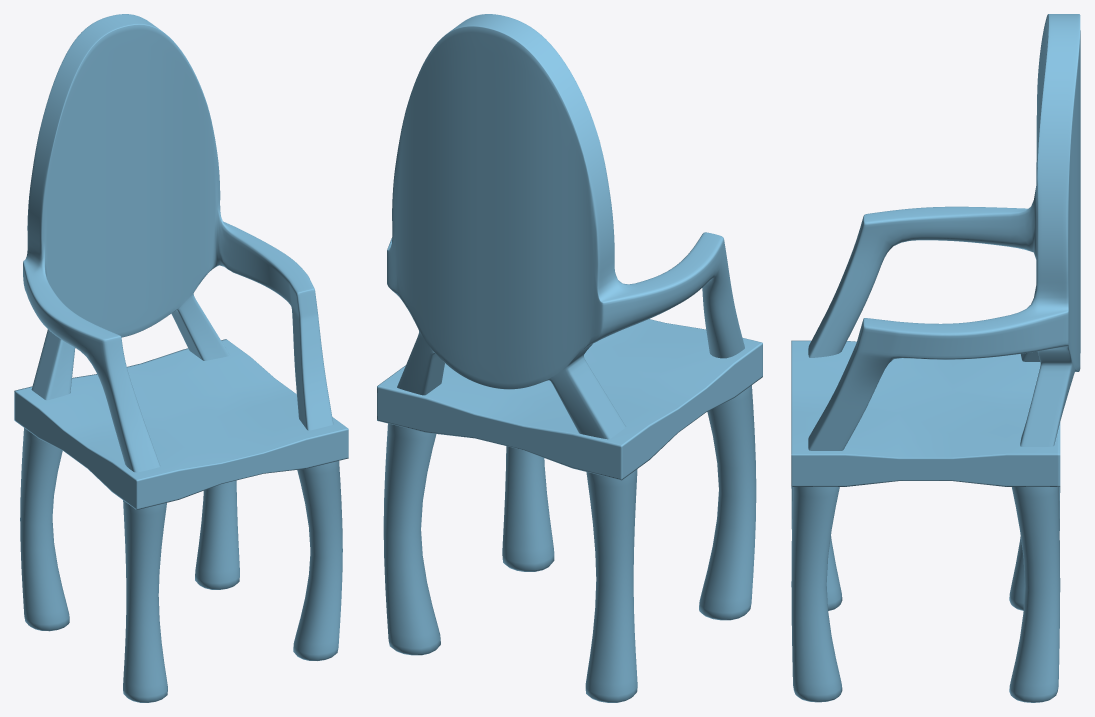
3 renders of one model, left to right at view 1: azimuth 30°, elevation 25°; view 2: azimuth 150°, elevation 25°; view 3: azimuth 270°, elevation 25°, orthographic. The views are drawn at different scales.
Visible parts, largest first — view 1: Object_2; view 2: Object_2; view 3: Object_2.
Part boxes in pixels (x1,y1,x2,y2): Object_2: (14,14,348,702); Object_2: (377,14,762,702); Object_2: (791,14,1080,702).
Size of the model in its own units: 1.04 by 2.38 by 0.9915.
